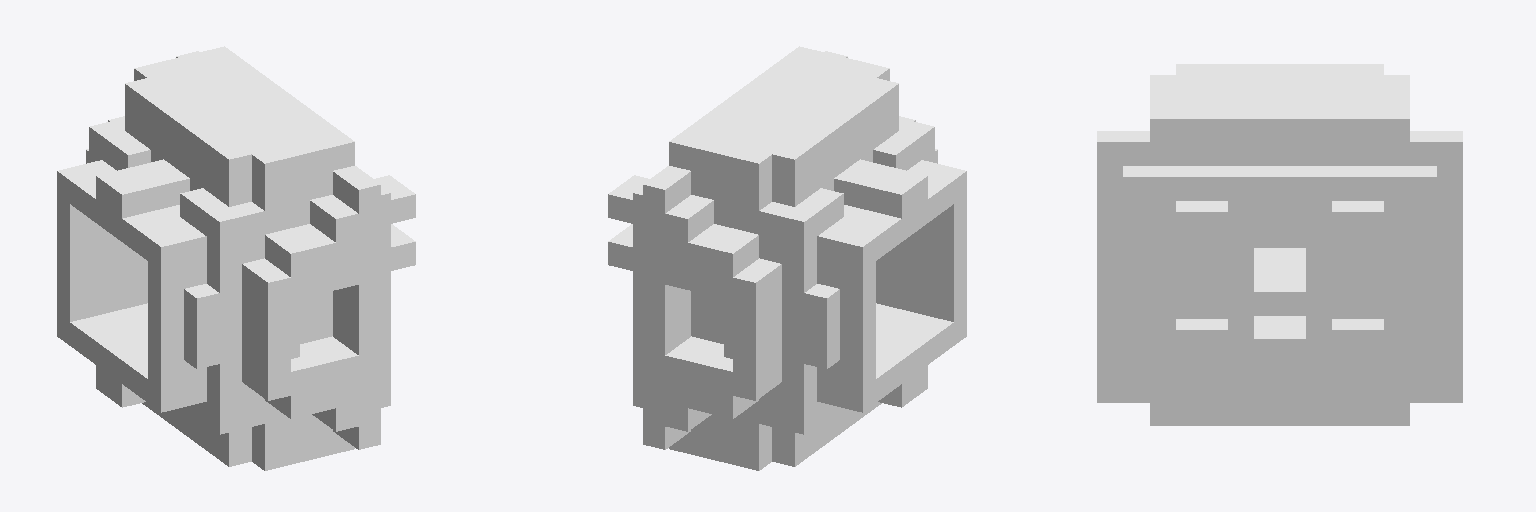
Rendered from Engine#1.obj.
The picture shows the model from 3 angles: view 1: azimuth 30°, elevation 25°; view 2: azimuth 150°, elevation 25°; view 3: azimuth 270°, elevation 25°; orthographic projection.
Parts seen in each view (by area): view 1: object 1; view 2: object 1; view 3: object 1.
Part boxes in pixels (x1,y1,x2,y2): object 1: (57,46,415,470); object 1: (608,46,966,470); object 1: (1097,64,1462,425).
Size of the model in its own units: 1.3 by 1.3 by 1.4.